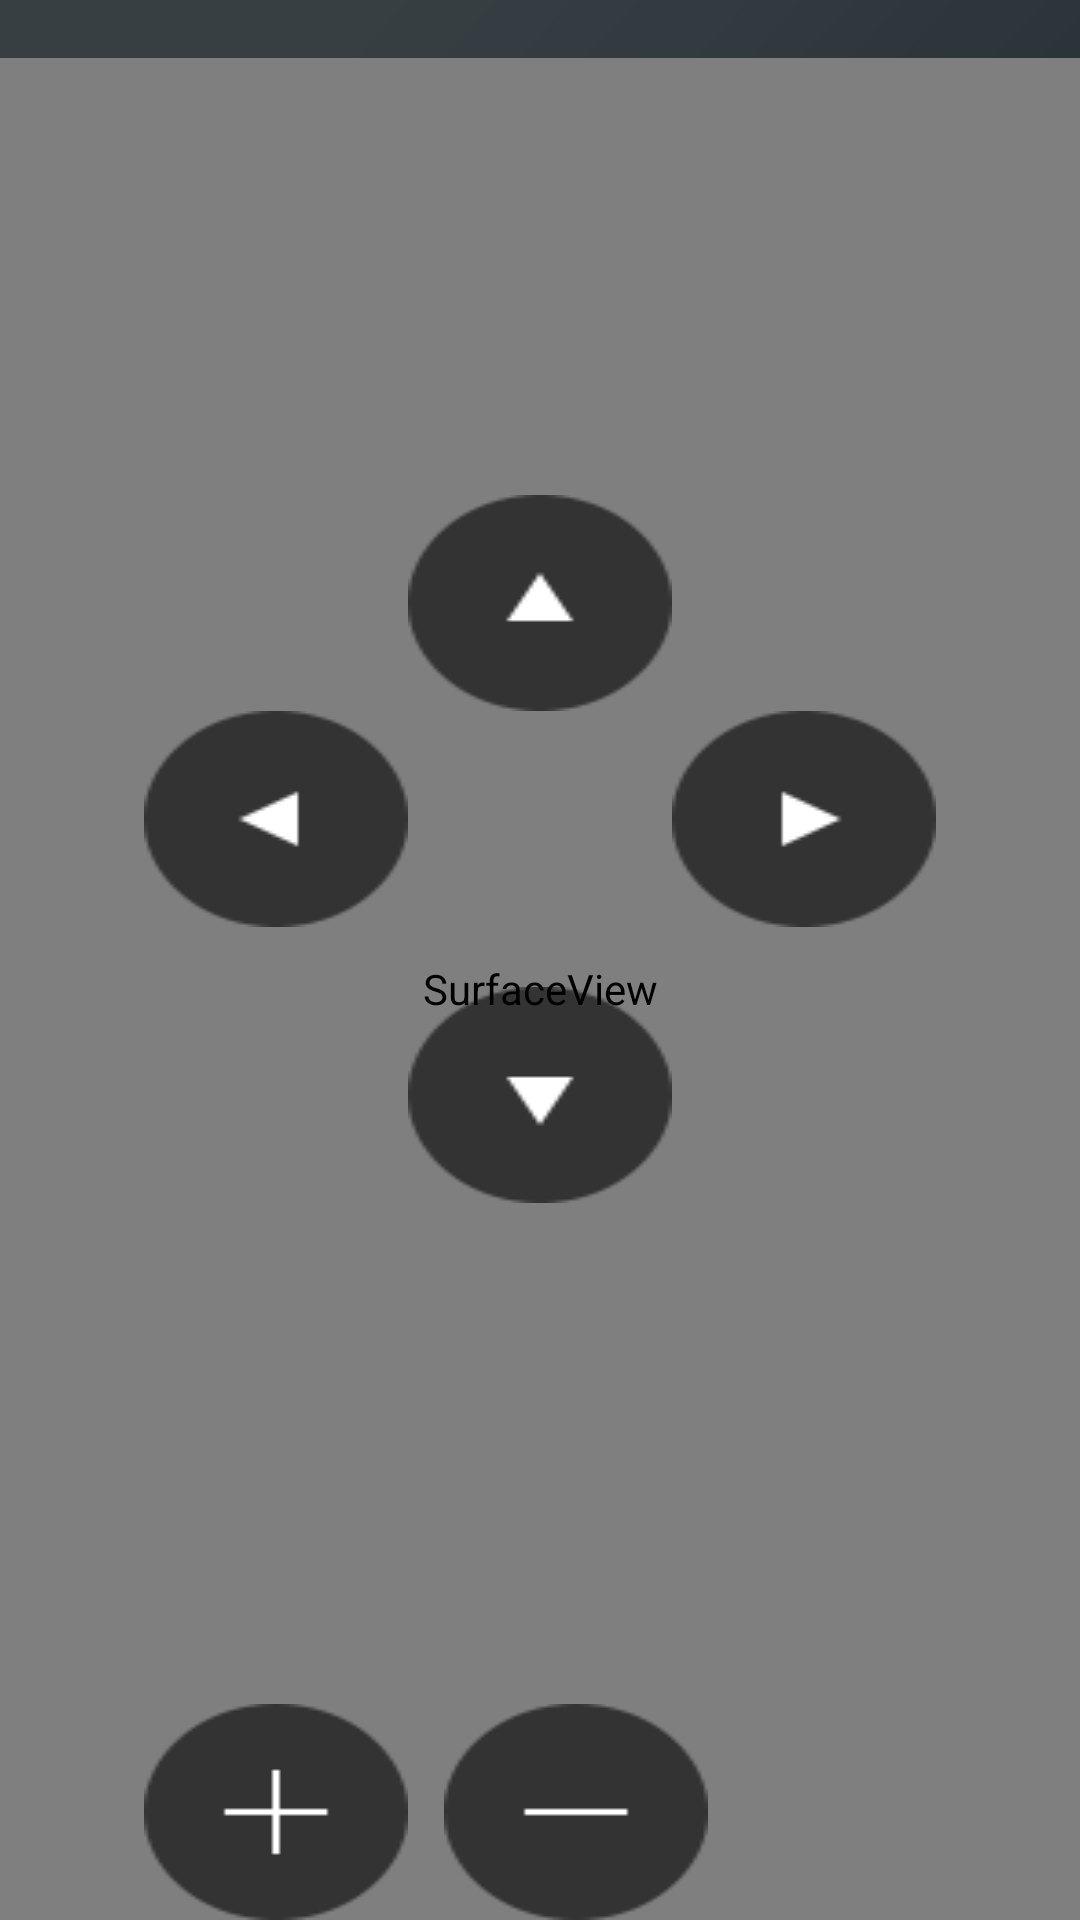

Icon bounding boxes for this 1080×1920 phone screenshot, format (x1, y1, x2, y2):
camera move bigger: (144, 1704, 408, 1920)
camera move down: (408, 987, 672, 1203)
camera move left: (144, 711, 408, 927)
camera move right: (672, 711, 936, 927)
camera move smaller: (444, 1704, 708, 1920)
camera move up: (408, 495, 672, 711)
